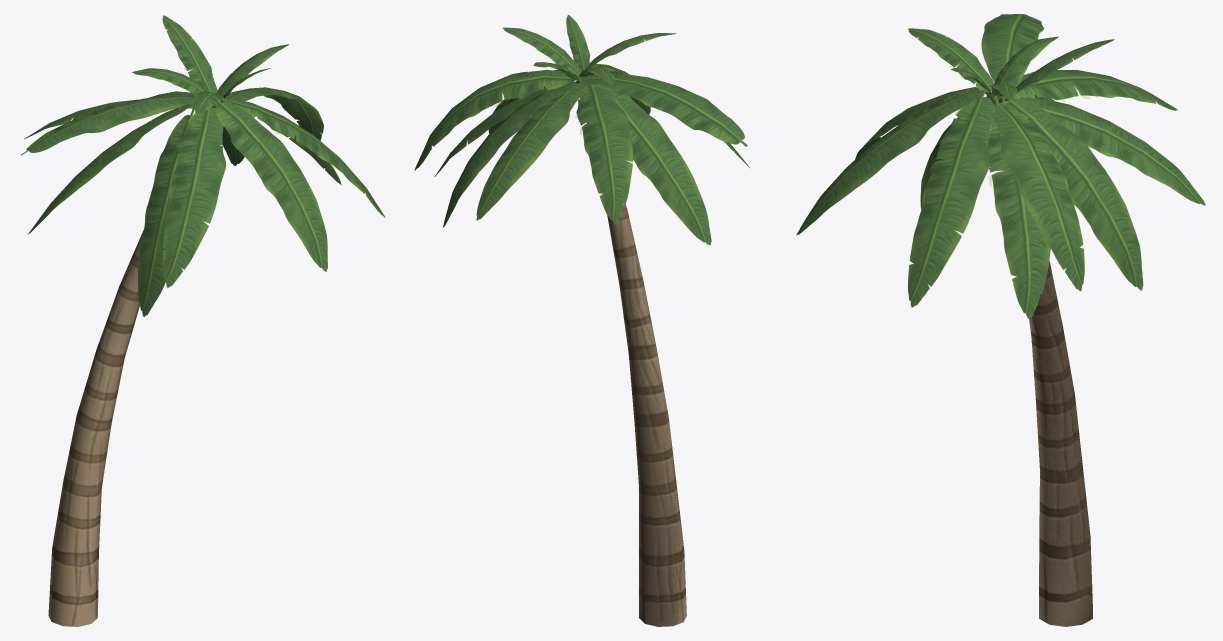
Rendered from palm.glb.
3 renders of one model, left to right at view 1: azimuth 30°, elevation 25°; view 2: azimuth 150°, elevation 25°; view 3: azimuth 270°, elevation 25°, orthographic. The views are drawn at different scales.
Parts seen in each view (by area): view 1: Palm; view 2: Palm; view 3: Palm.
Part boxes in pixels (x1,y1,x2,y2): Palm: (21, 15, 385, 626); Palm: (414, 15, 749, 626); Palm: (796, 14, 1205, 626).
Bounding box in the file's own units: 8.03 × 13 × 7.62.
Materials: 3 (3 with a texture image).
